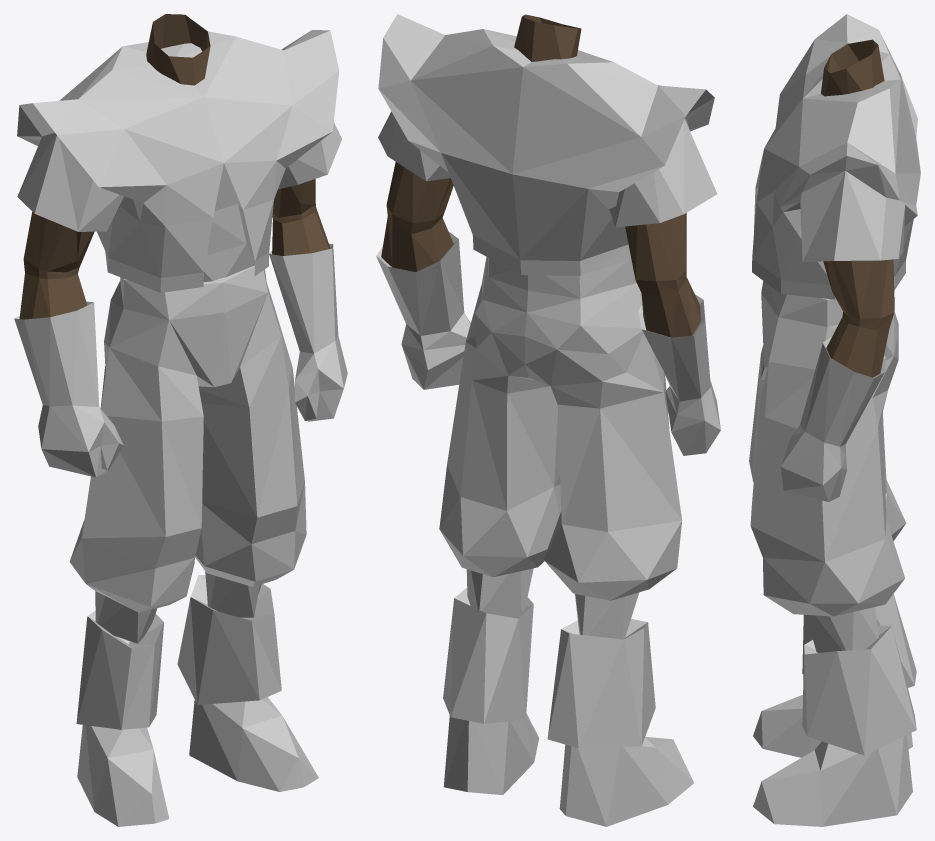
The model's file is ARMOR_DIEGO.OBJ.
3 views of the same model, side by side, from view 1: azimuth 30°, elevation 25°; view 2: azimuth 150°, elevation 25°; view 3: azimuth 270°, elevation 25° (orthographic). The views are drawn at different scales.
Visible parts, largest first — view 1: ARMOR_DIEGO; view 2: ARMOR_DIEGO; view 3: ARMOR_DIEGO.
Part boxes in pixels (x1=…): ARMOR_DIEGO: x1=14, y1=14, x2=347, y2=826; ARMOR_DIEGO: x1=376, y1=14, x2=720, y2=826; ARMOR_DIEGO: x1=749, y1=14, x2=920, y2=826.
Bounding box in the file's own units: 0.7173 × 1.67 × 0.354.
